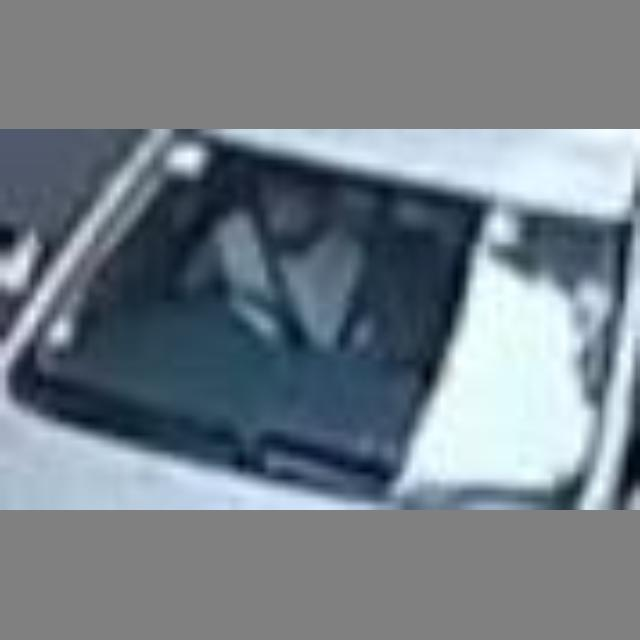pakai: (194, 172, 388, 402)
